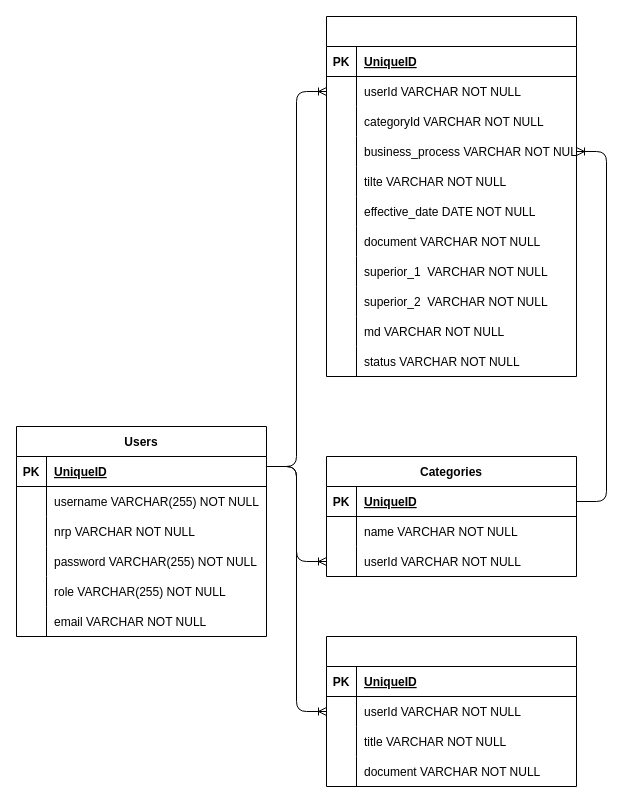
Some shapes in this 623 by 803 pixel diagram are drawn without their labels. The box of each missing label's shape, as (x1, y1, x2, y2) in pixels:
INTERNAL MEMO: (326, 636, 576, 786)
Sop_Library: (326, 16, 576, 376)
